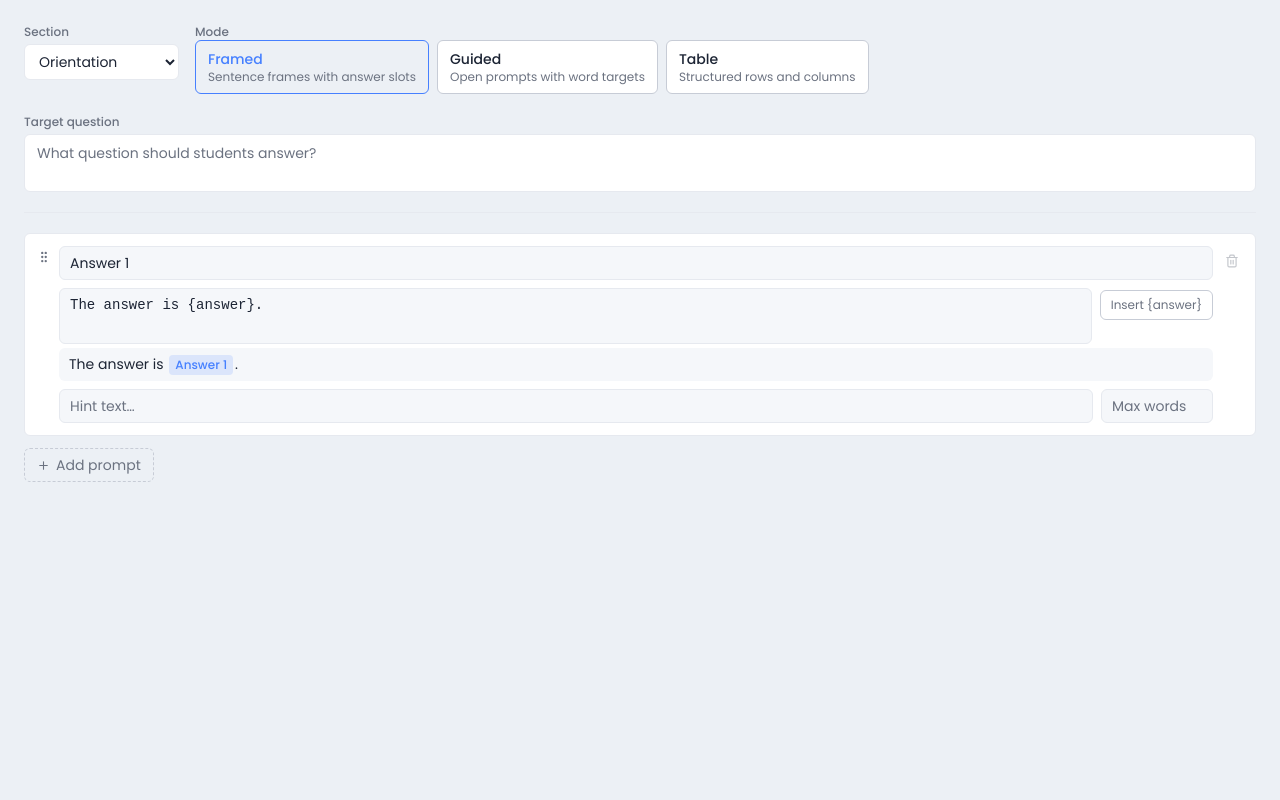
Test: ScaffoldSlideEditor — mode switching › switching mode with existing content shows confirmation dialog
This screenshot has width=1280, height=800.
Click the radio button labelled "Guided Open prompts with word targets". click: click(548, 67)
box: [437,40,658,94]
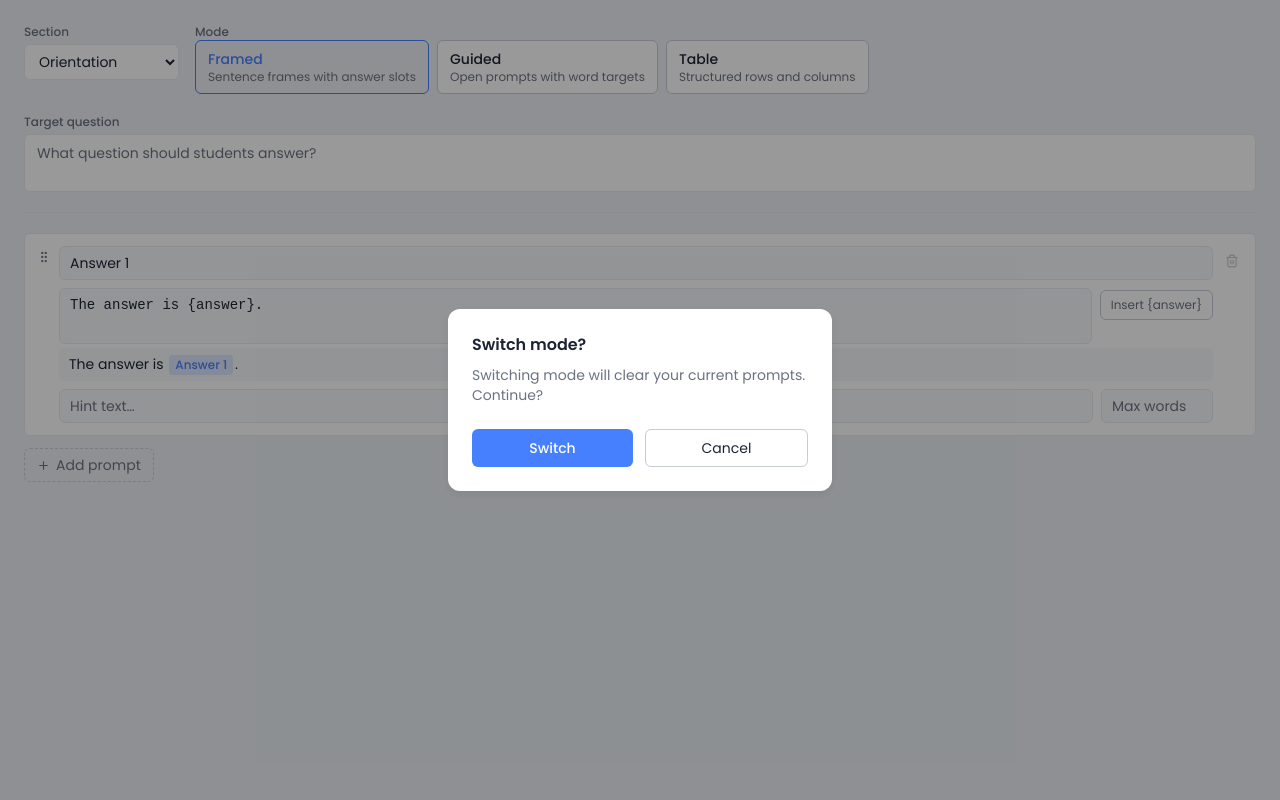
Expected: the dialog with test id "mode-switch-dialog" is shown
